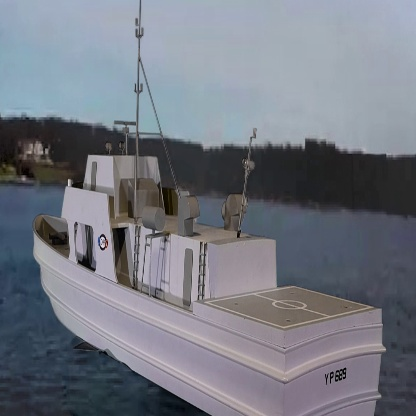YP689: (31, 0, 385, 416)
